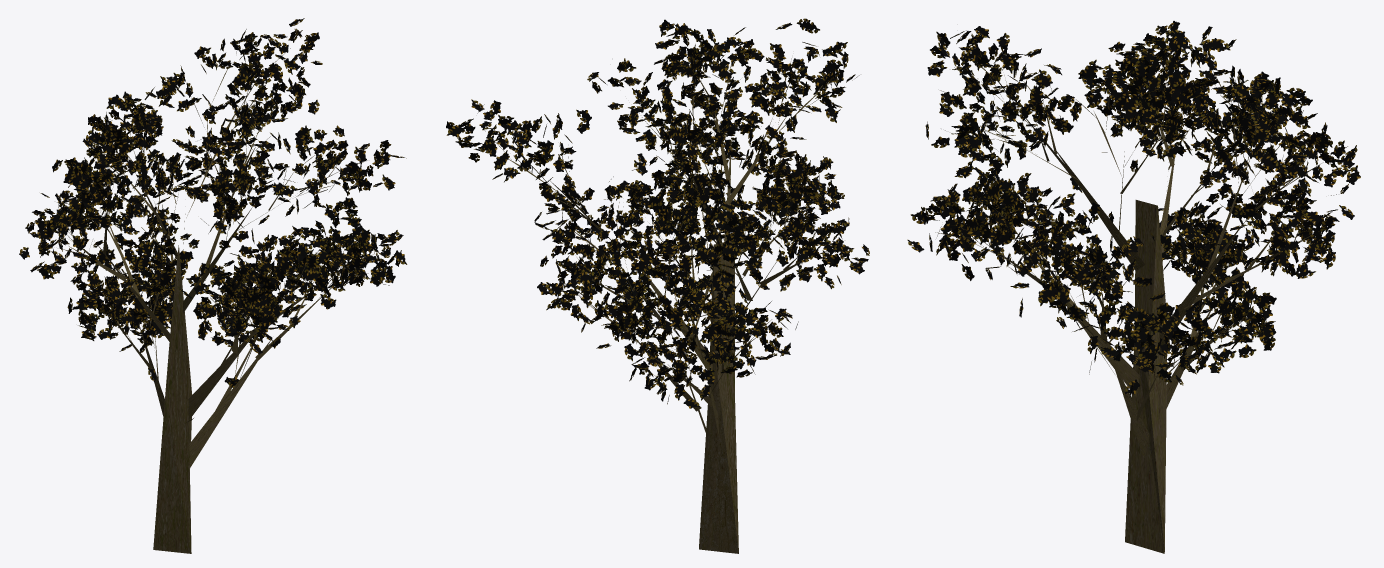
Rendered from broadleaf_giant_v03_LOD2.fbx.
3 renders of one model, left to right at view 1: azimuth 30°, elevation 25°; view 2: azimuth 150°, elevation 25°; view 3: azimuth 270°, elevation 25°, orthographic. The views are drawn at different scales.
Visible parts, largest first — view 1: broadleaf_giant_v03_LOD2; view 2: broadleaf_giant_v03_LOD2; view 3: broadleaf_giant_v03_LOD2.
Boxes of the visible parts, <box> form: broadleaf_giant_v03_LOD2: <box>19,18,407,553</box>; broadleaf_giant_v03_LOD2: <box>446,18,869,553</box>; broadleaf_giant_v03_LOD2: <box>907,21,1360,553</box>.
Size of the model in its own units: 3472 by 3388 by 4189.
2 materials, 2 textured.
